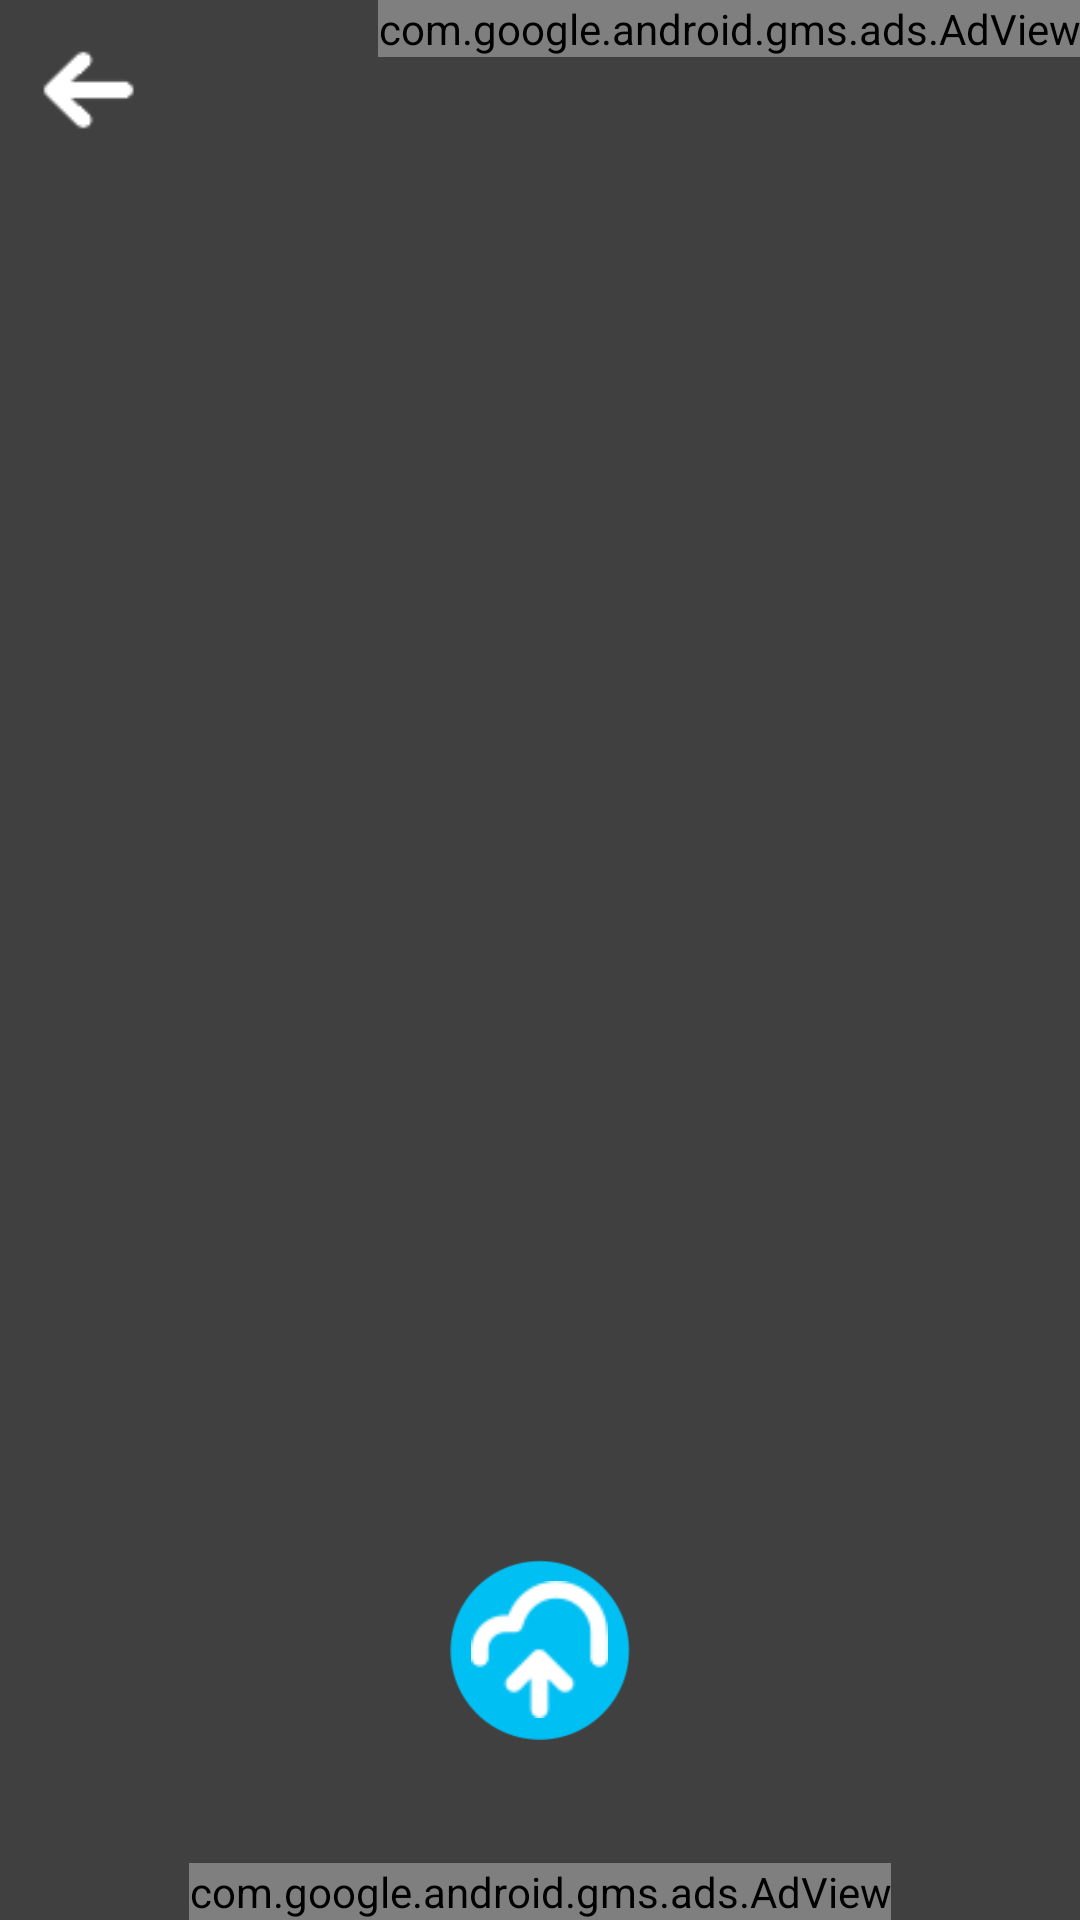

Named icons in this screenshot (1080 x 1920) and their bounding boxes, [x1=x1, y1=y1, x2=x2, y2=y2]:
back clickable: [x1=43, y1=51, x2=134, y2=129]
upload clickable: [x1=471, y1=1581, x2=608, y2=1718]
